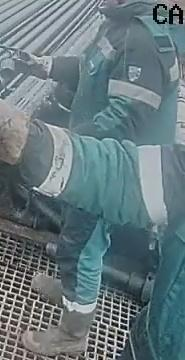gloves: (0, 96, 37, 174), (21, 51, 65, 82)
vest: (68, 14, 183, 145)
